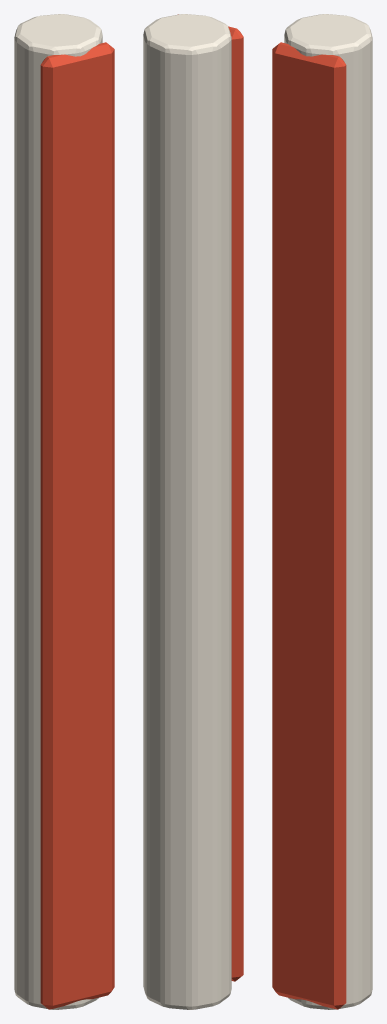
File: crab.glb
3 renders of one model, left to right at view 1: azimuth 30°, elevation 25°; view 2: azimuth 150°, elevation 25°; view 3: azimuth 330°, elevation 25°, orthographic.
Parts seen in each view (by area): view 1: red_skin, crab_core; view 2: crab_core, red_skin; view 3: red_skin, crab_core.
Boxes of the visible parts, left/top/right/bottom form: red_skin: left=40, top=42, right=114, bottom=1009; crab_core: left=14, top=14, right=102, bottom=1009; crab_core: left=143, top=14, right=231, bottom=1009; red_skin: left=178, top=14, right=243, bottom=981; red_skin: left=272, top=42, right=346, bottom=1009; crab_core: left=284, top=14, right=372, bottom=1009.
Bounding box in the file's own units: 0.0818 × 0.998 × 0.0869.
